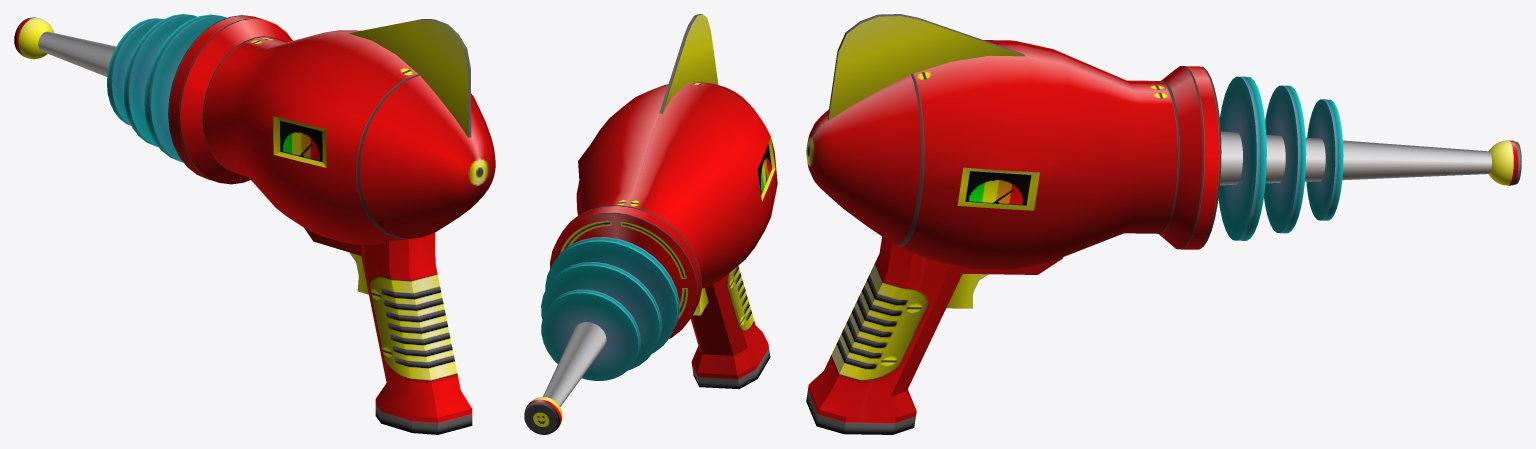
Rendered from ray_gun.obj.
The picture shows the model from 3 angles, left to right: view 1: azimuth 30°, elevation 25°; view 2: azimuth 150°, elevation 25°; view 3: azimuth 270°, elevation 25°; orthographic projection. The views are drawn at different scales.
Parts seen in each view (by area): view 1: Sphere.001_Sphere.002; view 2: Sphere.001_Sphere.002; view 3: Sphere.001_Sphere.002.
Part boxes in pixels (x1=…): Sphere.001_Sphere.002: x1=14, y1=14, x2=495, y2=434; Sphere.001_Sphere.002: x1=524, y1=14, x2=777, y2=434; Sphere.001_Sphere.002: x1=806, y1=14, x2=1521, y2=434.
Size of the model in its own units: 0.2073 by 0.3788 by 0.5806.
